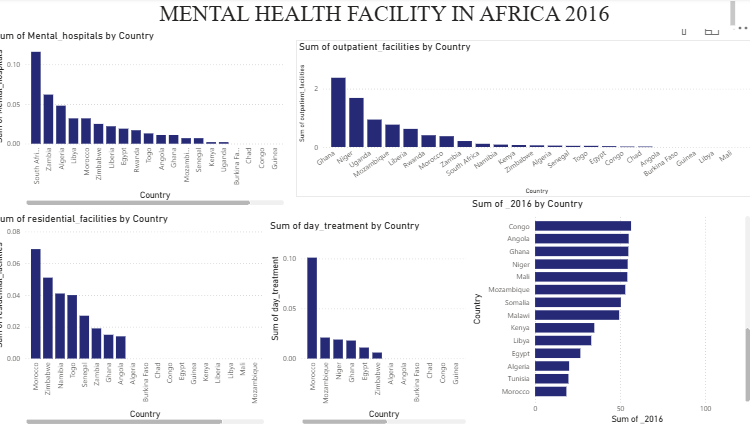

What the dashboard file says about the page in this screenshot:
{"tool":"powerbi","page":{"name":"Page 1","canvas":[1280,720],"ordinal":0},"visuals":[{"type":"lineChart","fields":{"Category":["Age-standardized suicide rates.Country"],"Y":["Sum(Age-standardized suicide rates._2000)","Sum(Age-standardized suicide rates._2010)","Sum(Age-standardized suicide rates._2015)","Sum(Age-standardized suicide rates._2016)"]},"box":[714.2,342.7,565.9,377.3],"z":0},{"type":"clusteredColumnChart","fields":{"Category":["Crude suicide rates.Country"],"Y":["Sum(Crude suicide rates._80_above)","Sum(Crude suicide rates._70to79)","Sum(Crude suicide rates._50to59)","Sum(Crude suicide rates._60to69)","Sum(Crude suicide rates._40to49)","Sum(Crude suicide rates._20to29)","Sum(Crude suicide rates._10to19)","Sum(Crude suicide rates._30to39)"]},"box":[282.2,342.7,432,377.3],"z":1000},{"type":"clusteredColumnChart","fields":{"Category":["Age-standardized suicide rates.Sex"],"Y":["Sum(Age-standardized suicide rates._2016)"]},"box":[0,360,299.5,360],"z":2000},{"type":"columnChart","fields":{"Category":["Human Resources.Country"],"Y":["Sum(Human Resources.Nurses)","Sum(Human Resources.Psychiatrists)","Sum(Human Resources.Psychologists)","Sum(Human Resources.Social_workers)"]},"box":[0,0,571.2,291.8],"z":3000},{"type":"clusteredColumnChart","fields":{"Y":["Sum(Facilities.Mental_hospitals)"],"Category":["Facilities.Country"]},"box":[571.2,0,708.8,291.8],"z":4000},{"type":"textbox","box":[0,279.4,1280.2,63.4],"z":6000}]}

Visuals, with their boxes on the page's 1280x720 design canvas (x1, y1, x2, y2). These are canvas units, not pixel positions in the 750x426 screenshot, which may show the page scaled, cropped or inside an application window:
lineChart - Age-standardized suicide rates.Country x Sum(Age-standardized suicide rates._2000): (714,343,1280,720)
clusteredColumnChart - Crude suicide rates.Country x Sum(Crude suicide rates._80_above): (282,343,714,720)
clusteredColumnChart - Age-standardized suicide rates.Sex x Sum(Age-standardized suicide rates._2016): (0,360,300,720)
columnChart - Human Resources.Country x Sum(Human Resources.Nurses): (0,0,571,292)
clusteredColumnChart - Sum(Facilities.Mental_hospitals) x Facilities.Country: (571,0,1280,292)
textbox: (0,279,1280,343)
